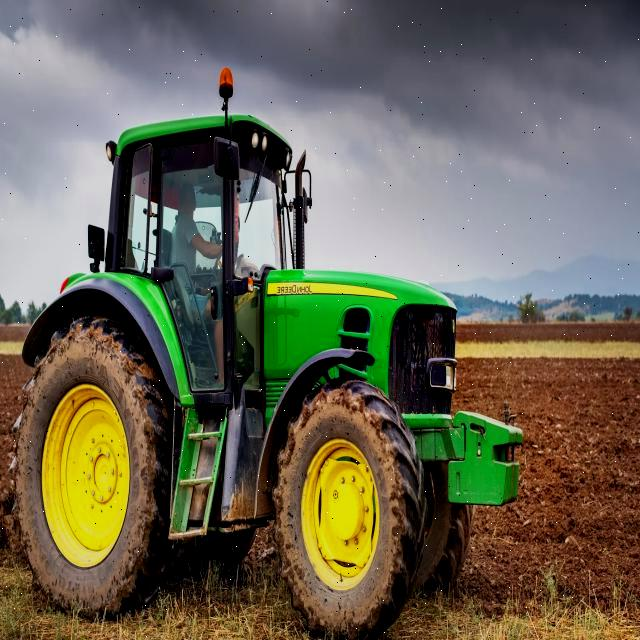Tratores - v5 YOLO V8L 2024-11-13: (8, 61, 525, 638)
